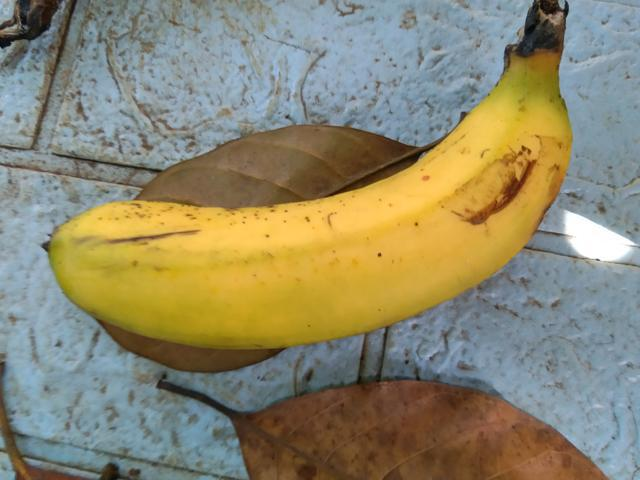ripe: (50, 73, 576, 391)
